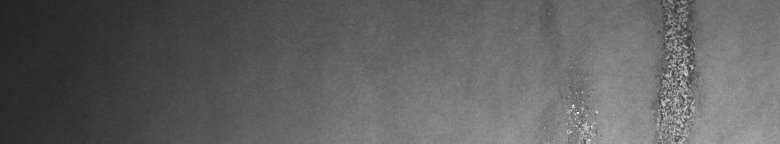hc: (566, 4, 701, 136)
